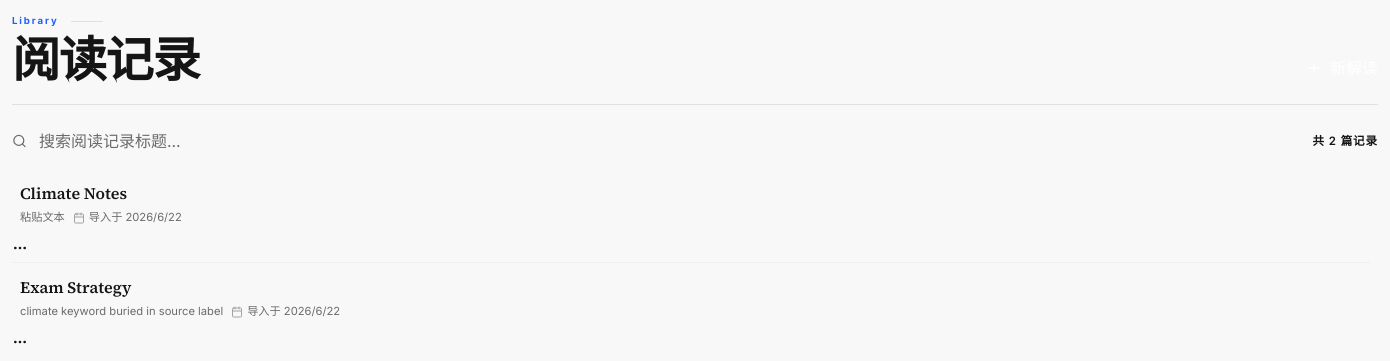
it: LibraryClient › searches by title only (display_title), not by sourceLabel
The image size is (1390, 361).
Step 1. Type "climate" into the field labelled "搜索阅读记录标题" → (217, 141), box [39, 129, 396, 153]
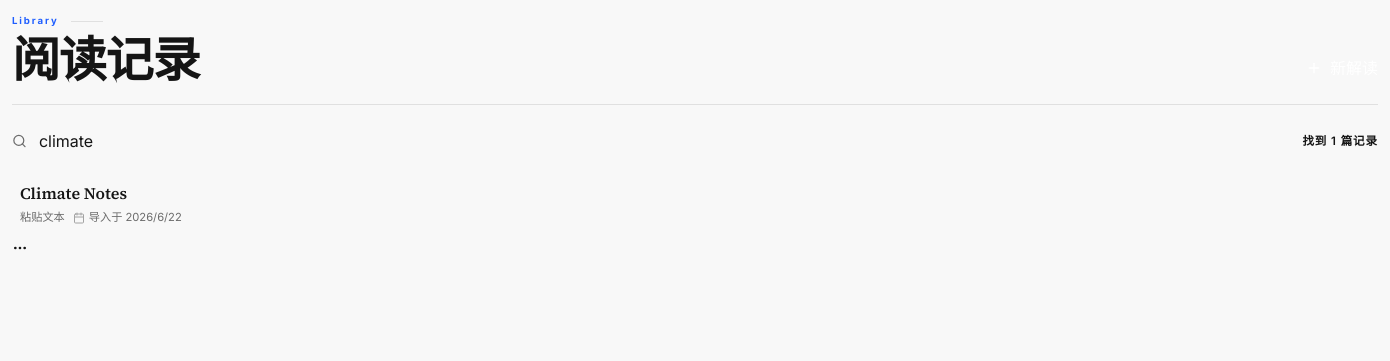
Check: the text "Climate Notes" is shown, box [20, 182, 127, 204]
Check: the link "Exam Strategy" is gone
Check: the text "找到 1 篇记录" is shown, box [1302, 133, 1378, 150]
